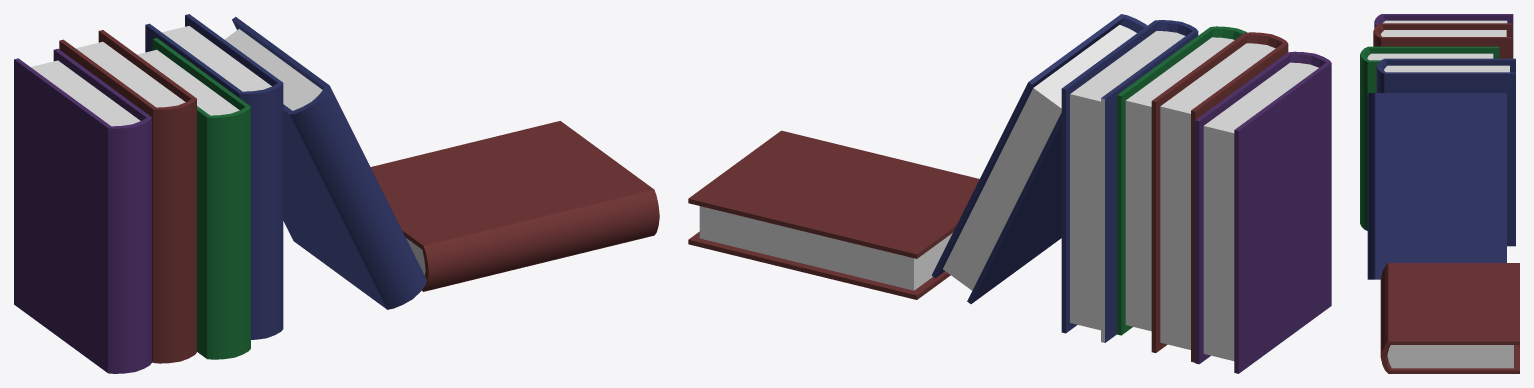
Rendered from LivreGroupe2.fbx.
3 renders of one model, left to right at view 1: azimuth 30°, elevation 25°; view 2: azimuth 150°, elevation 25°; view 3: azimuth 270°, elevation 25°, orthographic. The views are drawn at different scales.
Visible parts, largest first — view 1: LivreGroupe2; view 2: LivreGroupe2; view 3: LivreGroupe2.
Boxes of the visible parts, x1,y1,x2,y2 form: LivreGroupe2: [14, 14, 659, 373]; LivreGroupe2: [688, 14, 1331, 373]; LivreGroupe2: [1360, 14, 1519, 373].
Bounding box in the file's own units: 65.13 × 28.66 × 23.38.
